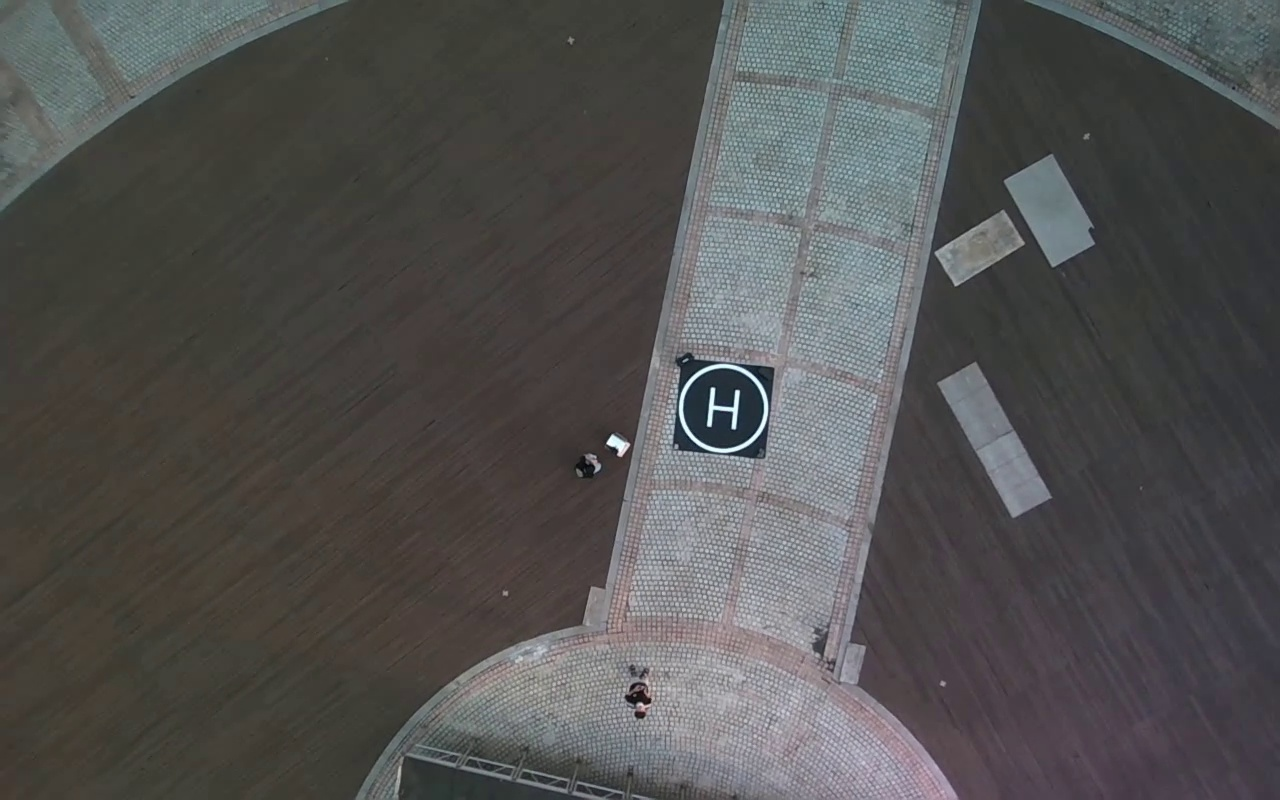H: (706, 386, 740, 433)
heliport: (677, 363, 770, 452)
